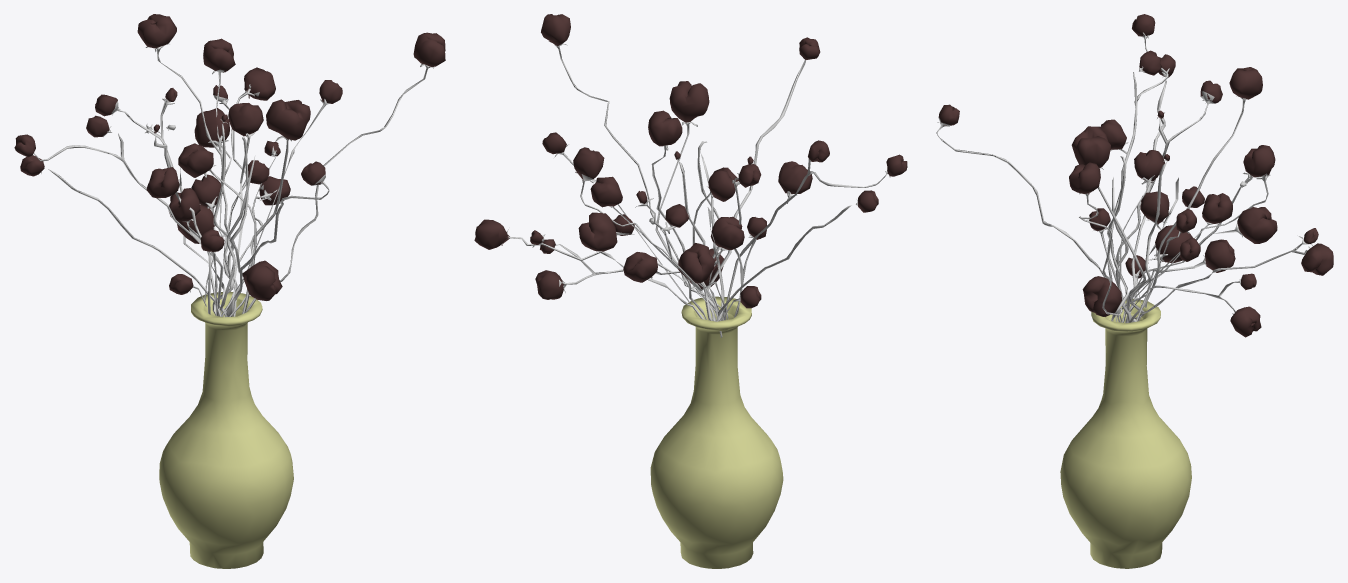
The model's file is PLANT.fbx.
The picture shows the model from 3 angles, left to right: view 1: azimuth 30°, elevation 25°; view 2: azimuth 150°, elevation 25°; view 3: azimuth 270°, elevation 25°; orthographic projection. The views are drawn at different scales.
Parts seen in each view (by area): view 1: flower_LOD0; view 2: flower_LOD0; view 3: flower_LOD0.
Boxes of the visible parts, left/top/right/bottom form: flower_LOD0: left=14, top=14, right=445, bottom=568; flower_LOD0: left=474, top=14, right=907, bottom=568; flower_LOD0: left=936, top=14, right=1333, bottom=568.
Size of what is drawn, in the model's own units: 38.35 by 45.46 by 33.94.
